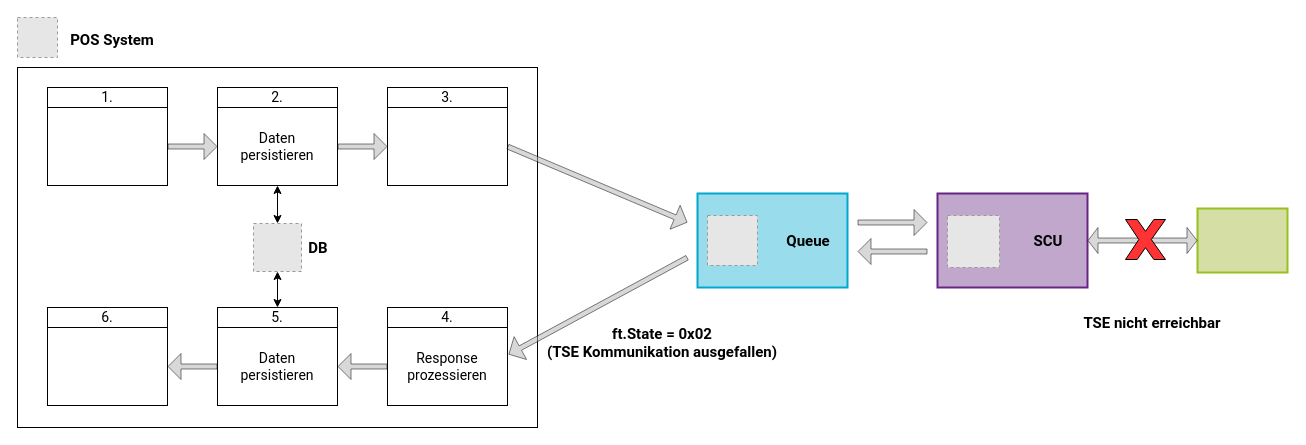
This 1306x445 diagram has some shape labels left out. Grey dashed boxes stand in for pictures. The shapes that lost their labels are listed below. From the top down, each one's box as (x1, y1, x2, y2) in pixels, then its label:
(46, 106, 168, 186): Charge- und Pay- Items sammeln
(386, 106, 508, 186): sign - Request erstellen und senden
(1196, 207, 1288, 273): TSE
(46, 326, 168, 406): Beleg mit Hinweis "TSE Kommunikation ausgefallen" drucken
